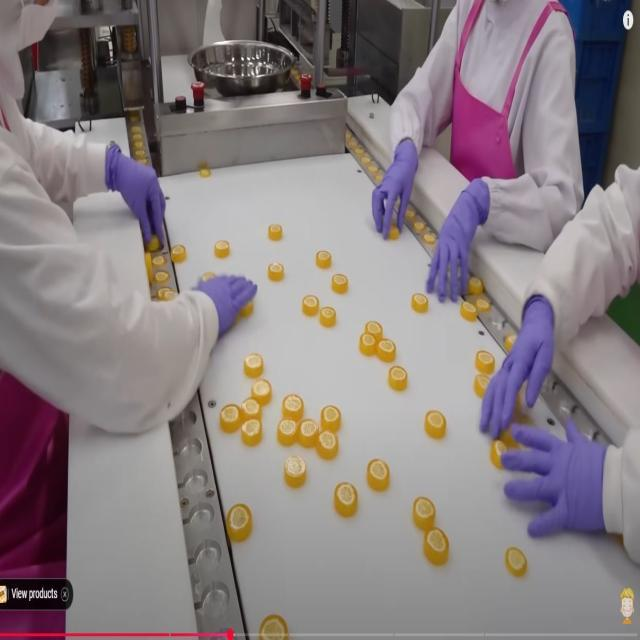gloved_hand: (498, 416, 612, 547), (474, 294, 566, 437), (424, 165, 491, 303), (103, 139, 169, 252), (366, 141, 422, 241), (192, 264, 258, 343)
